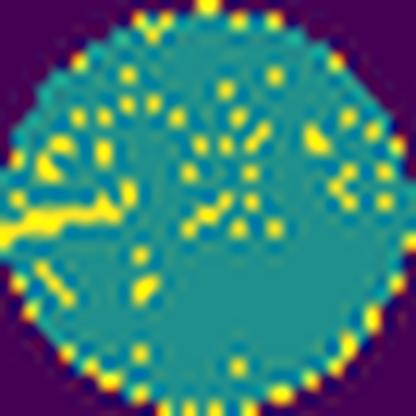Scratch: (0, 175, 145, 256)
